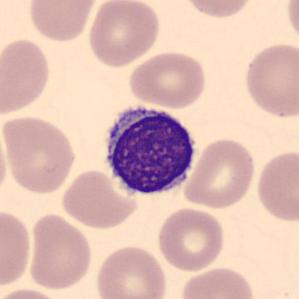Lymphocyte: (97, 100, 202, 202)
RBC: (1, 113, 79, 196), (181, 136, 258, 210), (26, 210, 94, 292), (58, 167, 140, 231), (85, 0, 162, 68), (126, 48, 208, 110), (154, 205, 227, 273), (240, 39, 299, 120), (0, 36, 53, 118), (93, 243, 169, 299), (254, 147, 298, 225), (25, 0, 98, 43), (0, 207, 34, 291), (178, 265, 258, 299), (176, 0, 256, 20), (0, 117, 11, 202), (0, 286, 69, 299), (284, 0, 299, 47)
